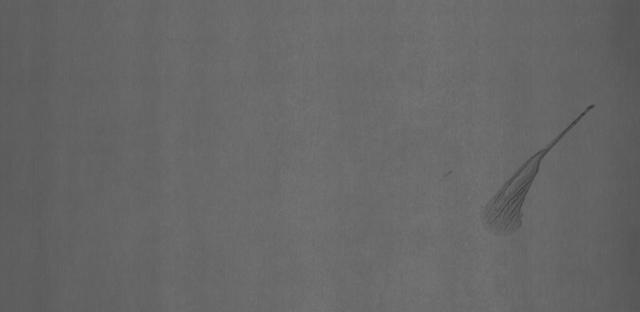water_spot: (480, 86, 598, 249)
